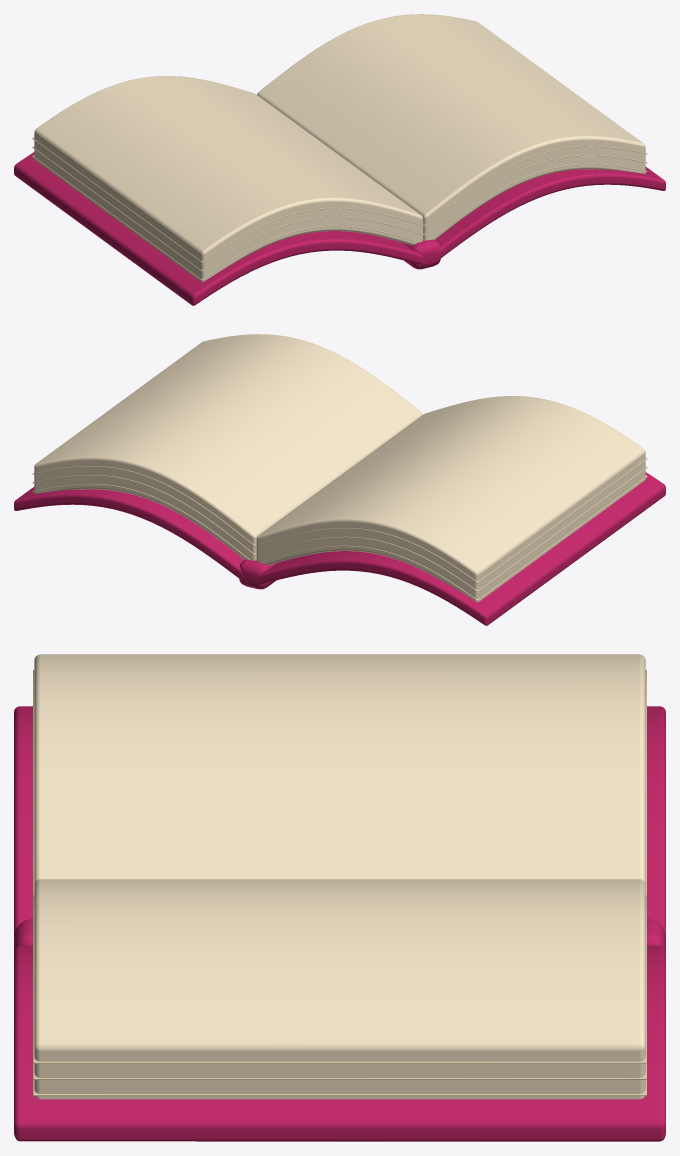
File: book-open.glb
3 renders of one model, top to bottom at view 1: azimuth 30°, elevation 25°; view 2: azimuth 150°, elevation 25°; view 3: azimuth 270°, elevation 25°, orthographic. The views are drawn at different scales.
Parts seen in each view (by area): view 1: Cream open pages.001, Cream open pages, Berry open cover, Berry open cover.001, Paper leaf edge, Paper leaf edge.001, Paper leaf edge.002, Open book binding; view 2: Cream open pages.001, Cream open pages, Berry open cover, Berry open cover.001, Paper leaf edge.001, Paper leaf edge, Paper leaf edge.002, Open book binding; view 3: Cream open pages, Cream open pages.001, Berry open cover.001, Berry open cover, Paper leaf edge.003, Paper leaf edge.004, Paper leaf edge.005, Open book binding, Paper leaf edge.
Part boxes in pixels (x1,y1,x2,y2): Cream open pages.001: [257, 14, 645, 240]; Cream open pages: [34, 76, 423, 281]; Berry open cover: [14, 152, 428, 305]; Berry open cover.001: [431, 167, 665, 265]; Paper leaf edge: [32, 137, 424, 262]; Paper leaf edge.001: [32, 146, 424, 271]; Paper leaf edge.002: [32, 155, 419, 280]; Open book binding: [403, 239, 440, 269]; Cream open pages.001: [34, 334, 422, 560]; Cream open pages: [256, 396, 645, 601]; Berry open cover: [251, 472, 665, 625]; Berry open cover.001: [14, 487, 248, 585]; Paper leaf edge.001: [255, 466, 647, 591]; Paper leaf edge: [255, 457, 647, 582]; Paper leaf edge.002: [260, 475, 647, 600]; Open book binding: [239, 559, 276, 589]; Cream open pages: [34, 654, 645, 884]; Cream open pages.001: [34, 879, 645, 1099]; Berry open cover.001: [14, 945, 665, 1141]; Berry open cover: [14, 706, 665, 935]; Paper leaf edge.003: [33, 895, 646, 1063]; Paper leaf edge.004: [33, 1063, 646, 1079]; Paper leaf edge.005: [33, 1079, 646, 1095]; Open book binding: [14, 919, 665, 950]; Paper leaf edge: [33, 670, 646, 895].
Bounding box in the file's own units: 1.94 × 0.3688 × 1.28.
